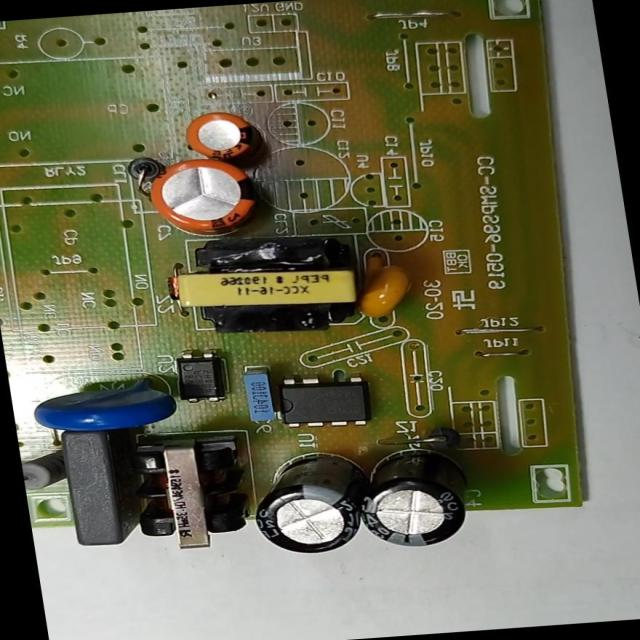Cap1: (131, 148, 280, 245)
Cap2: (167, 102, 275, 170)
Cap3: (242, 441, 383, 562)
Cap4: (339, 430, 492, 560)
MOSFET: (263, 370, 380, 433)
Mov: (18, 376, 184, 444)
Resistor: (20, 449, 66, 495)
Transformer: (156, 228, 368, 340), (124, 428, 252, 554)
